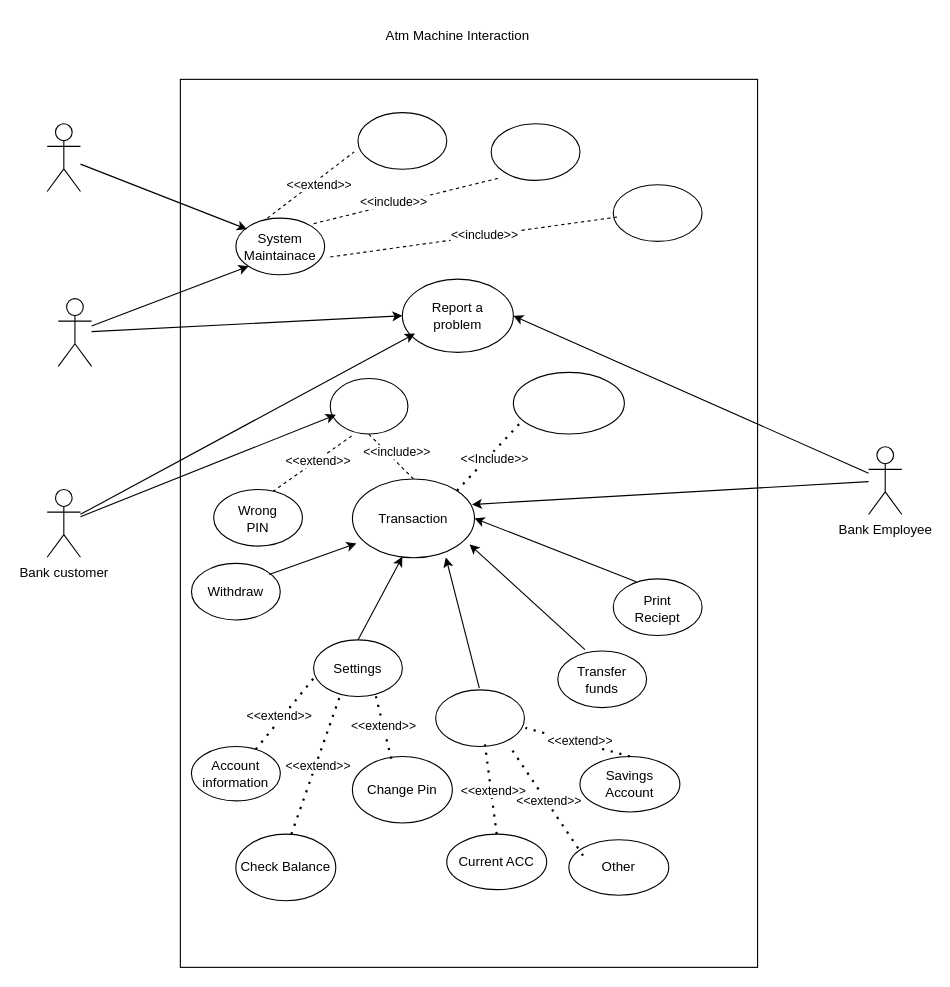
Some shapes in this 950 by 987 pixel diagram are drawn without their labels. The shapes that lost their labels are listed below. From the top down, each one's centre as x and y in pixels, then its label:
At (63,157): "Administrator".
At (402,140): "Create a case".
At (535,151): "System Issues".
At (657,212): "System Shutdown".
At (74,331): "Technical_Support".
At (368,405): "Login".
At (568,402): "Database".
At (479,717): "Deposit".
